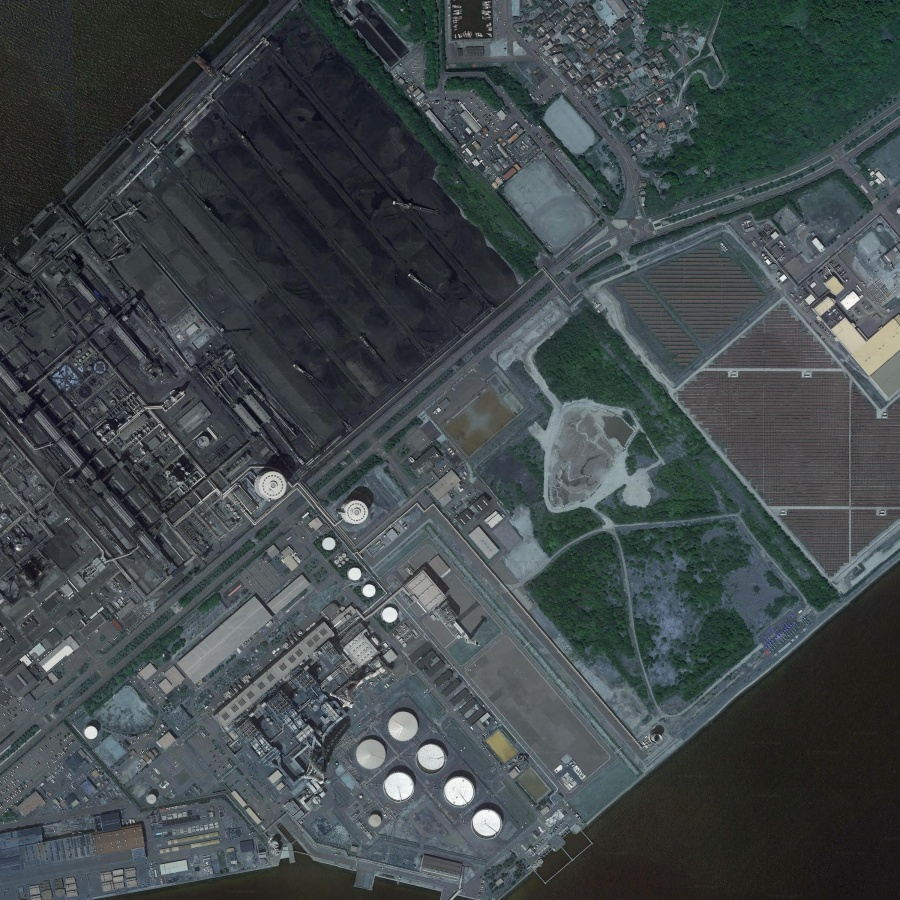PowerPlant: (146, 18, 532, 412), (224, 458, 524, 837)
